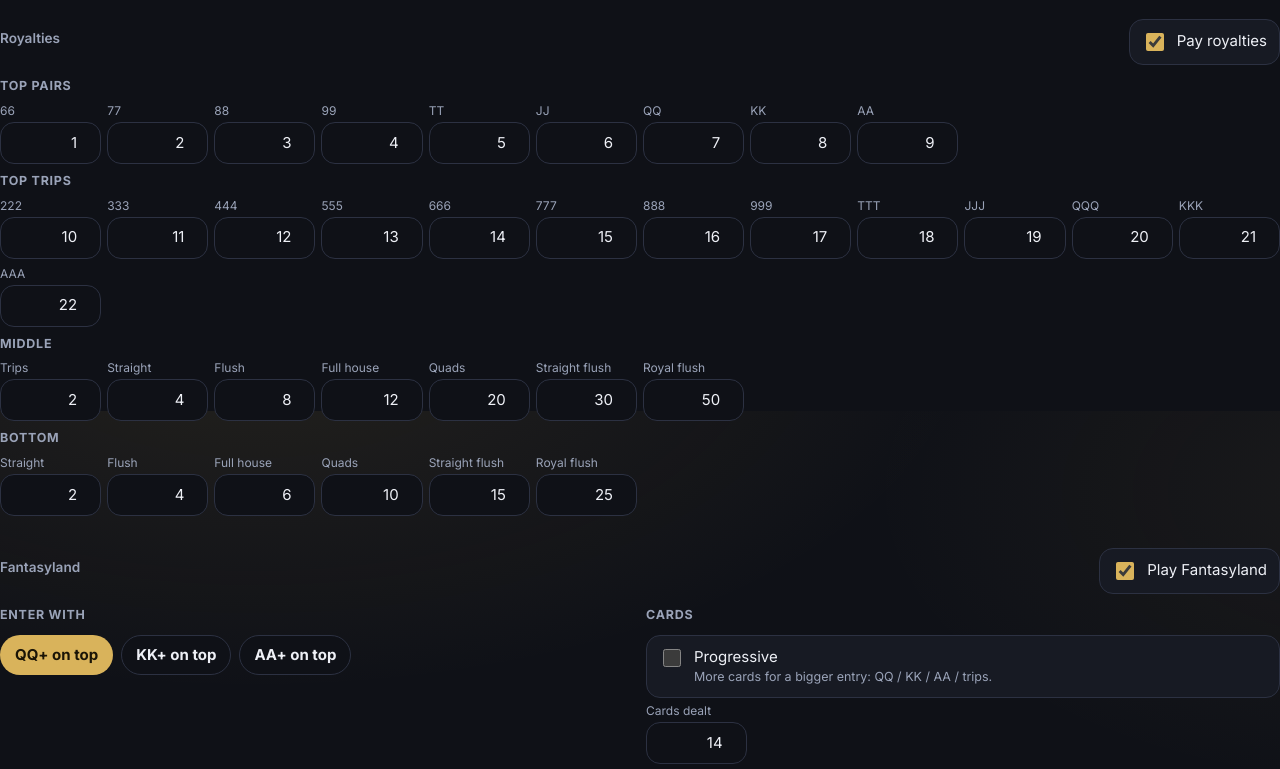
Test: RulesEditor › starts on a preset and becomes custom after an edit
(page scrolled)
Replace the text in the number field with test id "royalty-middle-flush" with "9" at (265, 400), box [214, 379, 316, 421]
(page scrolled)
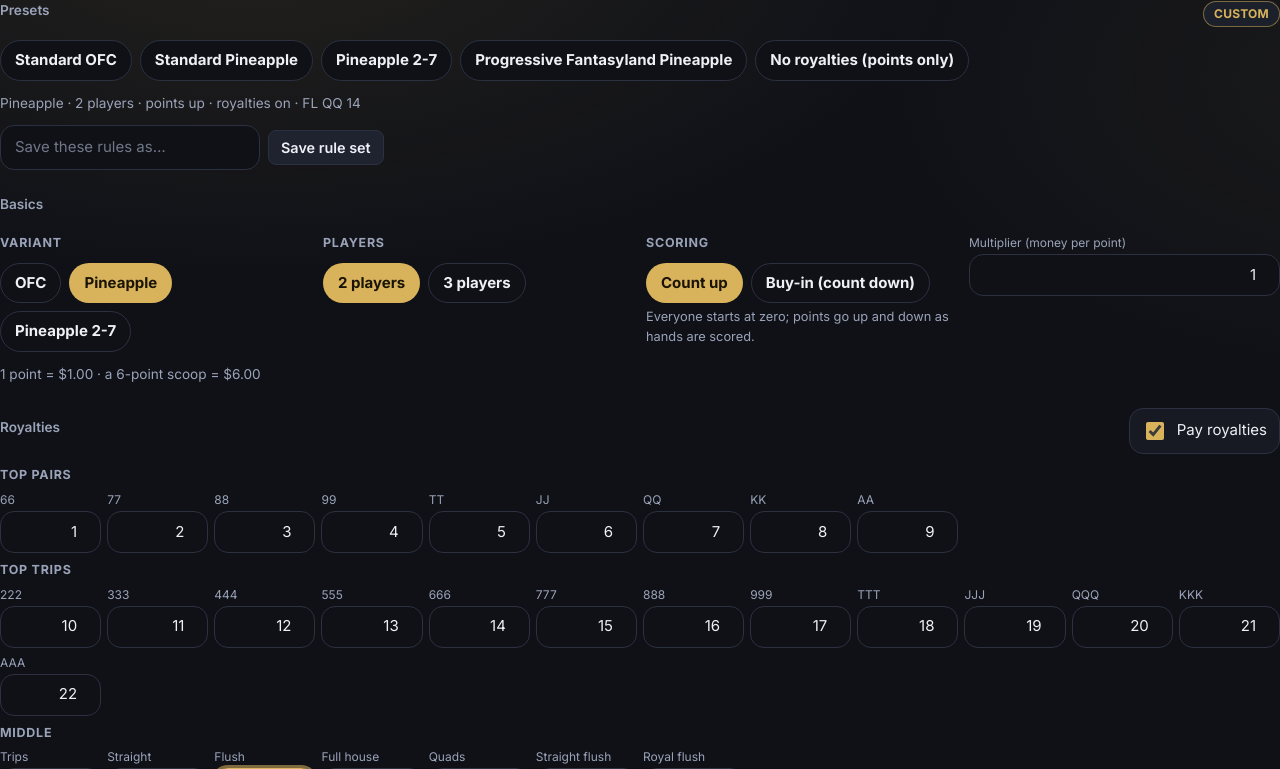
Check: the text "Custom" is shown, box [1203, 1, 1279, 27]
// Back to a preset restores every number.
Click the radio button with test id "rules-preset-pineapple27" at (387, 61), box [321, 40, 452, 81]
(page scrolled)
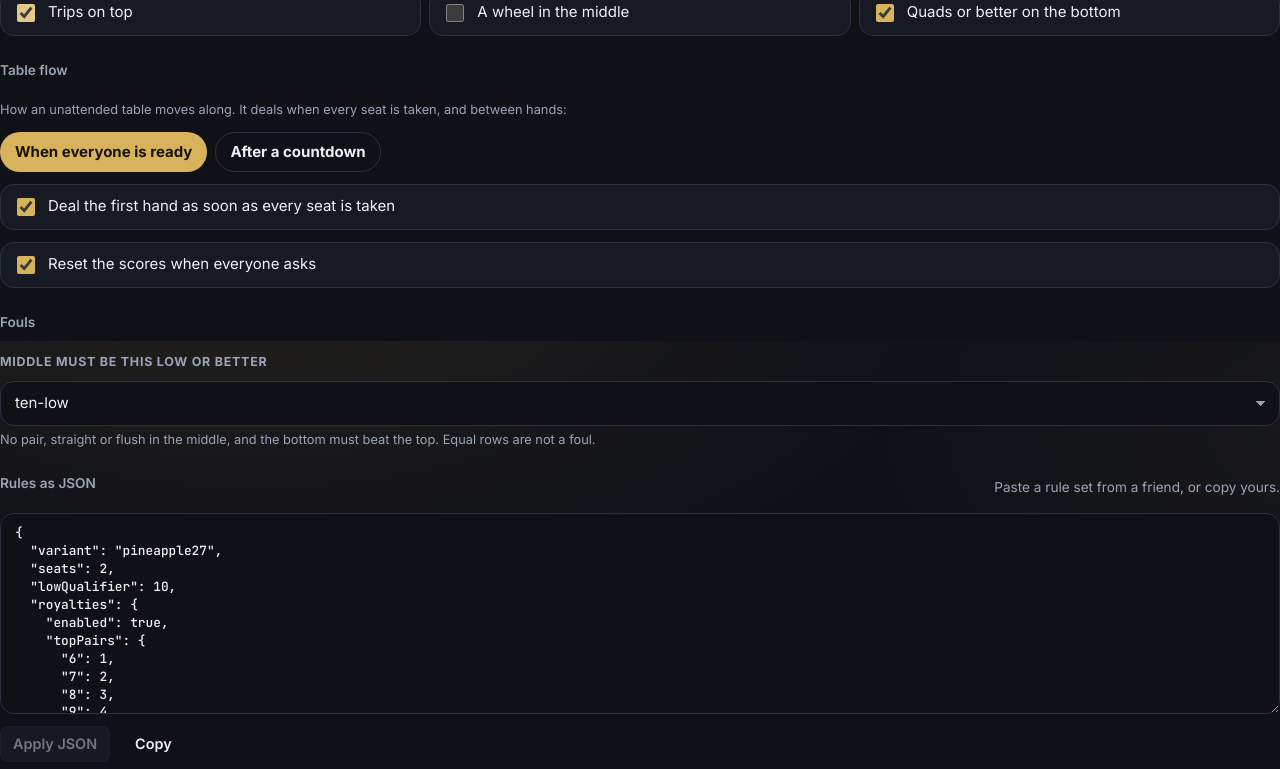
Check: the dropdown with test id "low-qualifier" shows "ten-low", box [0, 381, 1279, 426]
